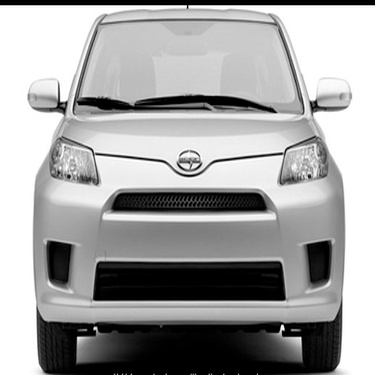car: (21, 5, 356, 371)
